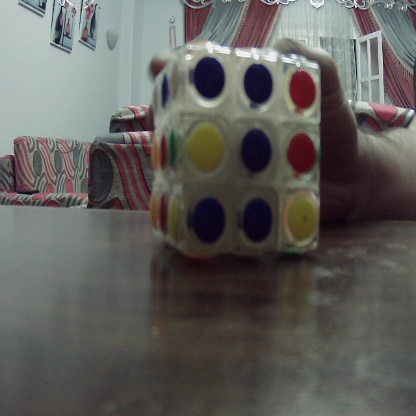Rubix Cube: (148, 43, 323, 262)
